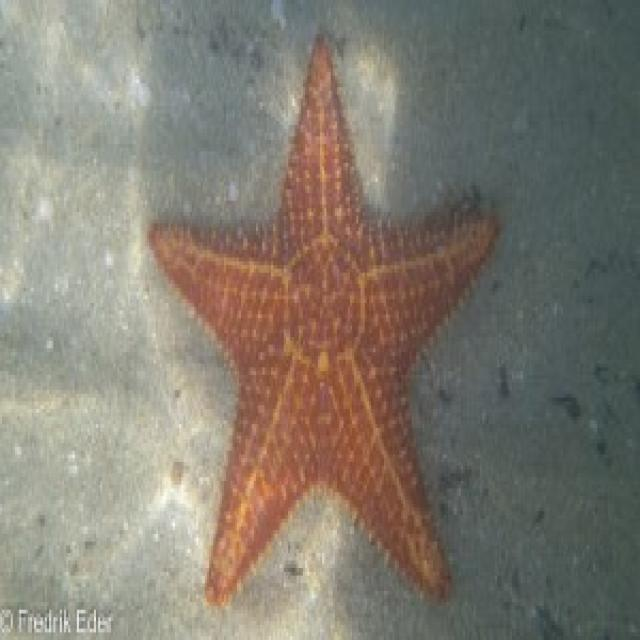Starfish: (145, 29, 500, 619)
